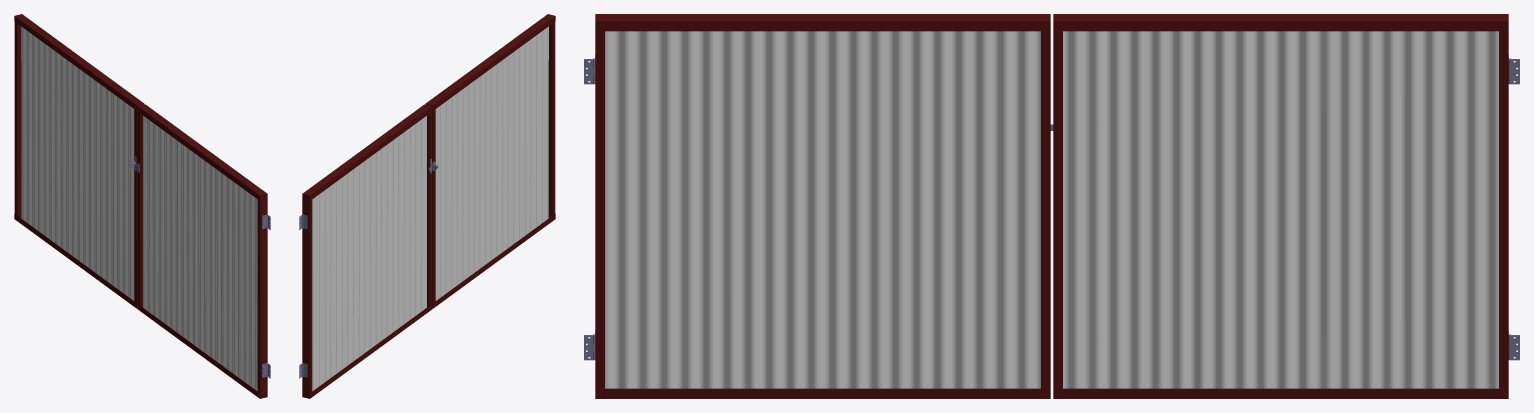
The model's file is GCDG15.glb.
3 views of the same model, side by side, from view 1: azimuth 30°, elevation 25°; view 2: azimuth 150°, elevation 25°; view 3: azimuth 270°, elevation 25° (orthographic). The views are drawn at different scales.
Visible parts, largest first — view 1: GC - GOOD NEIGHBOUR CGI-16 DOUBLE DRIVEWAY GATE - VERTICAL -; view 2: GC - GOOD NEIGHBOUR CGI-16 DOUBLE DRIVEWAY GATE - VERTICAL -; view 3: GC - GOOD NEIGHBOUR CGI-16 DOUBLE DRIVEWAY GATE - VERTICAL -.
Part boxes in pixels (x1,y1,x2,y2): GC - GOOD NEIGHBOUR CGI-16 DOUBLE DRIVEWAY GATE - VERTICAL -: (14, 14, 270, 398); GC - GOOD NEIGHBOUR CGI-16 DOUBLE DRIVEWAY GATE - VERTICAL -: (299, 14, 555, 398); GC - GOOD NEIGHBOUR CGI-16 DOUBLE DRIVEWAY GATE - VERTICAL -: (584, 14, 1519, 398).
Bounding box in the file's own units: 0.1206 × 1.51 × 3.38.
